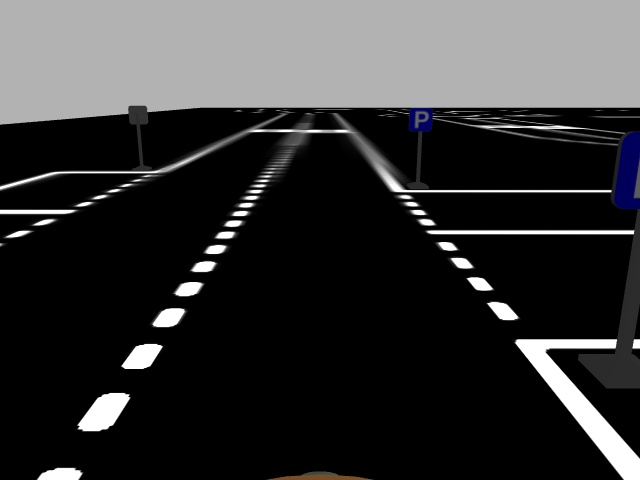parking: (409, 106, 431, 131)
